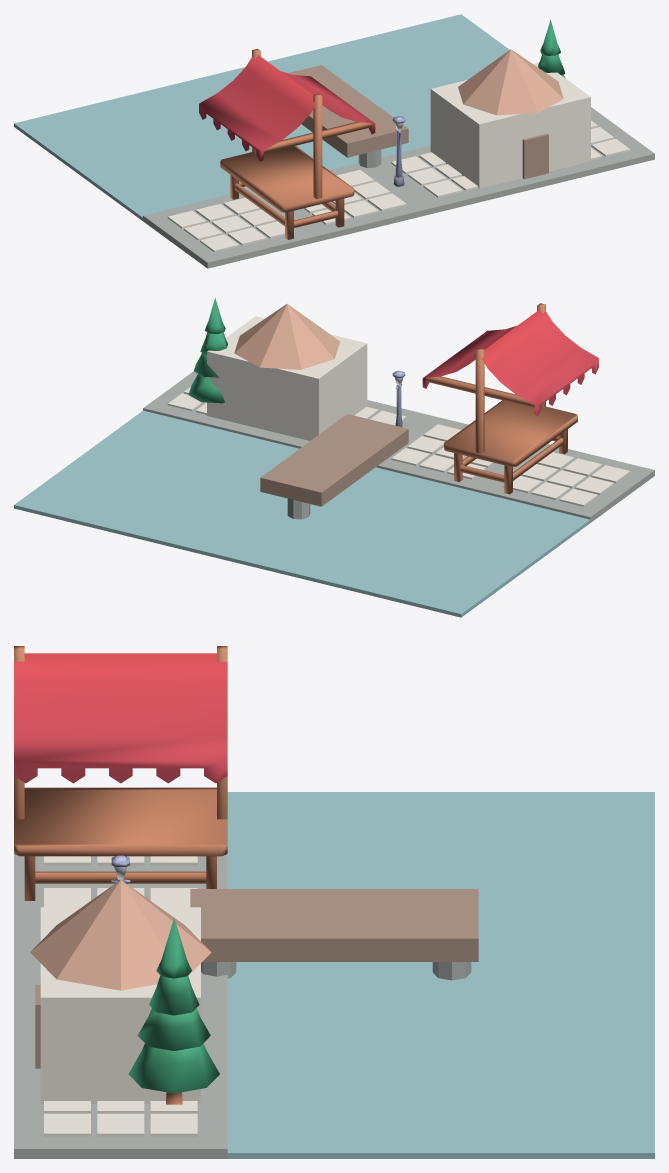
File: harbour.glb
3 renders of one model, top to bottom at view 1: azimuth 30°, elevation 25°; view 2: azimuth 150°, elevation 25°; view 3: azimuth 270°, elevation 25°, orthographic. The views are drawn at different scales.
Parts seen in each view (by area): view 1: cottage-small, stall-red, ground-cobble, water-tile.001, water-tile, water-tile.007, ground-cobble.001, ground-cobble.002, bridge-arched, water-tile.003, water-tile.005, ground-cobble.003 (+4 smaller); view 2: stall-red, cottage-small, bridge-arched, water-tile.001, water-tile.007, water-tile.003, water-tile.005, water-tile, water-tile.006, ground-cobble, water-tile.002, ground-cobble.001 (+4 smaller); view 3: stall-red, cottage-small, bridge-arched, water-tile.006, water-tile.007, water-tile.004, water-tile, water-tile.005, water-tile.001, water-tile.003, ground-cobble.003, tree (+4 smaller).
Part boxes in pixels (x1,y1,x2,y2): cottage-small: (430,49,590,188); stall-red: (199,48,375,239); ground-cobble: (143,189,319,268); water-tile.001: (14,96,189,173); water-tile: (78,143,249,220); water-tile.007: (350,14,509,88); ground-cobble.001: (294,163,431,241); ground-cobble.002: (376,145,543,213); bridge-arched: (288,65,408,167); water-tile.003: (126,69,241,143); water-tile.005: (238,41,413,99); ground-cobble.003: (537,107,654,186); stall-red: (422,303,598,494); cottage-small: (207,303,367,440); bridge-arched: (260,414,408,519); water-tile.001: (349,539,525,617); water-tile.007: (14,458,189,535); water-tile.003: (237,514,413,590); water-tile.005: (125,485,292,562); water-tile: (414,492,590,569); water-tile.006: (79,410,254,484); ground-cobble: (478,444,654,522); water-tile.002: (310,467,477,539); ground-cobble.001: (376,415,504,492); stall-red: (14,646,227,900); cottage-small: (30,880,211,1103); bridge-arched: (190,889,478,980); water-tile.006: (227,1062,441,1158); water-tile.007: (441,1062,654,1158); water-tile.004: (227,972,441,1062); water-tile: (227,792,441,881); water-tile.005: (441,972,654,1062); water-tile.001: (441,792,654,881); water-tile.003: (441,882,654,972); ground-cobble.003: (14,1059,227,1158); tree: (128,918,219,1104).
Size of the model in its own units: 8 by 2.47 by 6.
Materials: 8 (3 with a texture image).
